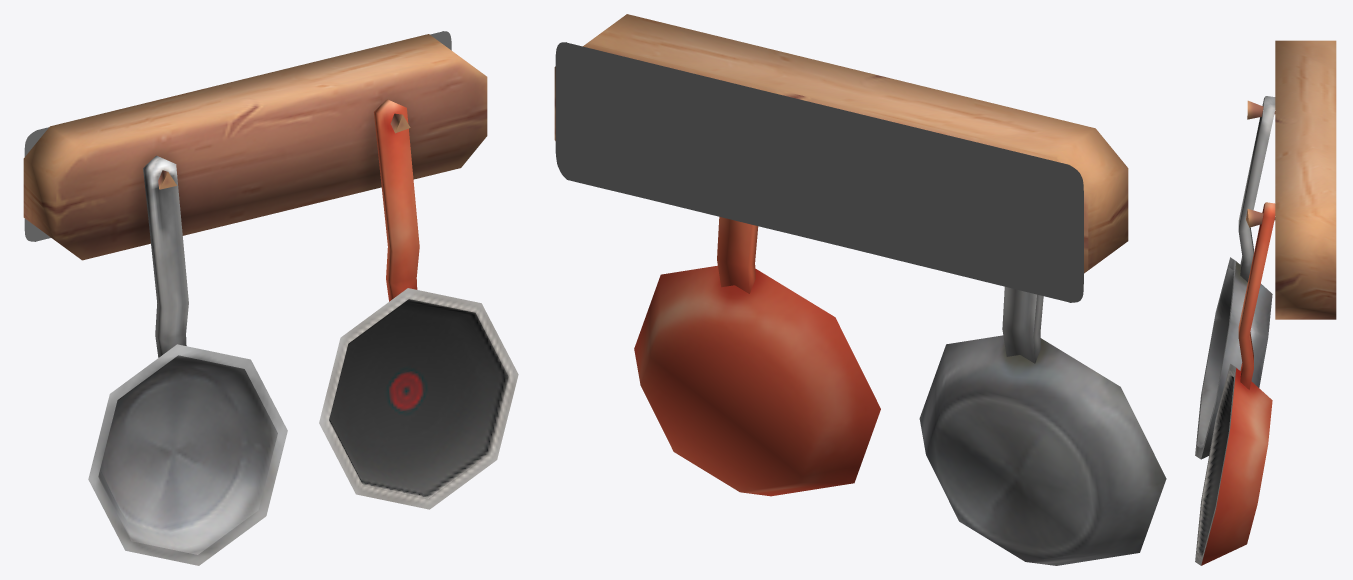
The model's file is FT_CM_KC_hangerA01.FBX.
3 views of the same model, side by side, from view 1: azimuth 30°, elevation 25°; view 2: azimuth 150°, elevation 25°; view 3: azimuth 270°, elevation 25° (orthographic). The views are drawn at different scales.
Parts seen in each view (by area): view 1: FT_CM_KC_hangerA01, FT_CM_KC_hangerA01_shadow; view 2: FT_CM_KC_hangerA01, FT_CM_KC_hangerA01_shadow; view 3: FT_CM_KC_hangerA01.
Boxes of the visible parts, x1,y1,x2,y2 form: FT_CM_KC_hangerA01: [23, 34, 518, 565]; FT_CM_KC_hangerA01_shadow: [24, 31, 451, 241]; FT_CM_KC_hangerA01: [554, 14, 1166, 565]; FT_CM_KC_hangerA01_shadow: [555, 42, 1083, 302]; FT_CM_KC_hangerA01: [1195, 40, 1336, 565].
Size of the model in its own units: 1 by 0.8963 by 0.2984.
